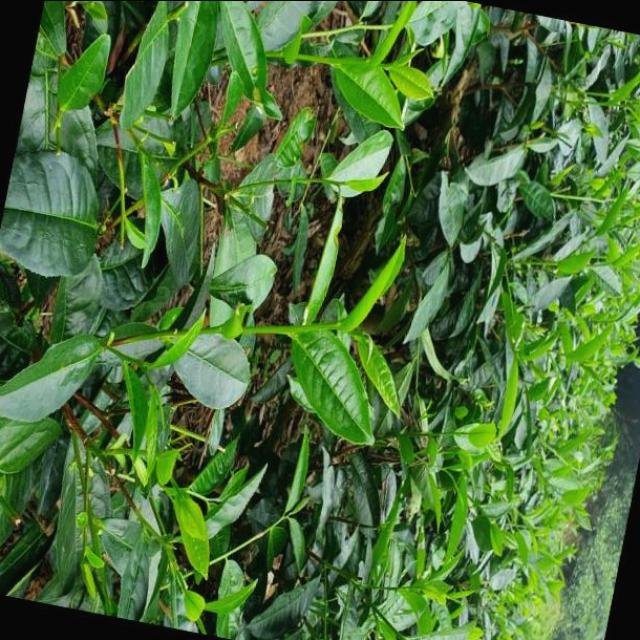Stem: (332, 322, 340, 329), (137, 360, 141, 365), (335, 181, 339, 185), (418, 585, 421, 587)
